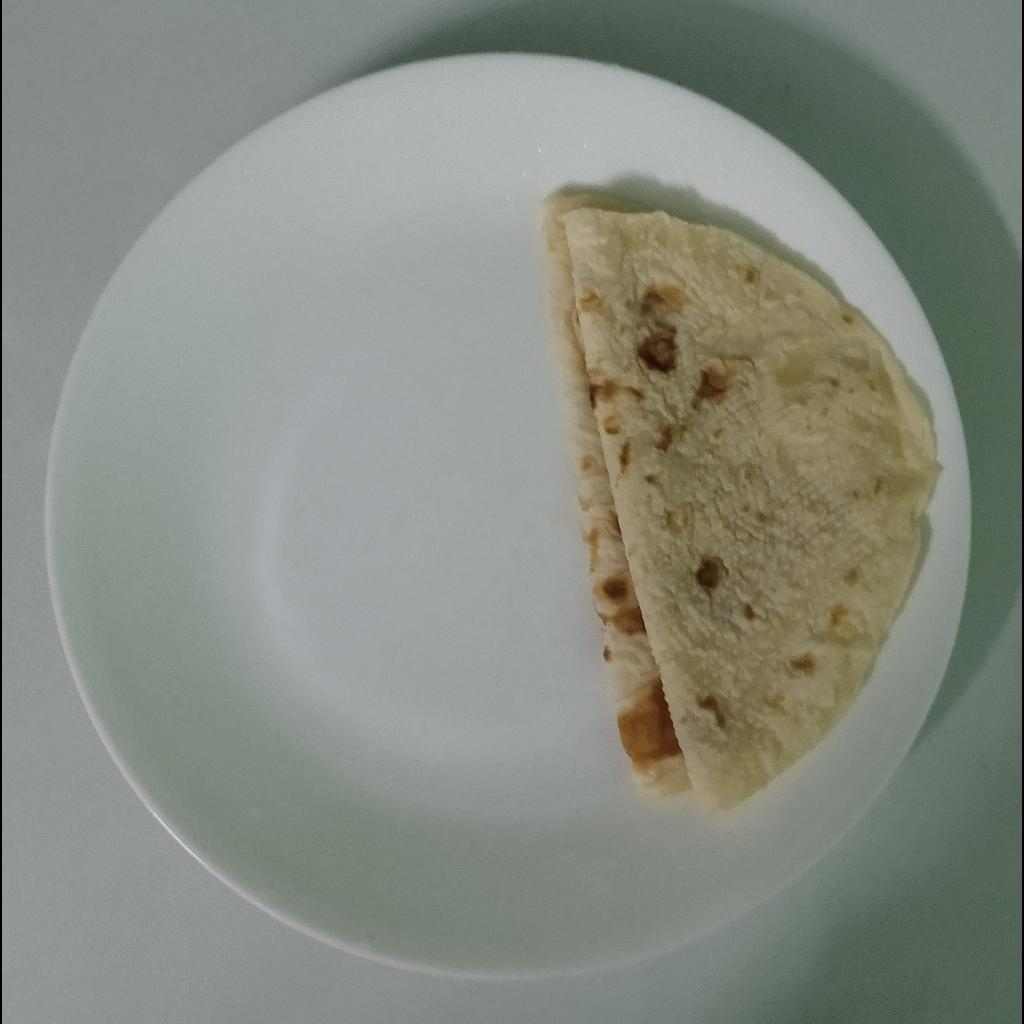ruti: (542, 201, 938, 818)
